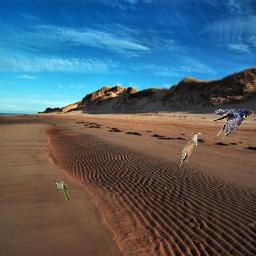Cuckoo: (178, 132, 201, 172), (53, 180, 69, 201)
Swallow: (214, 109, 254, 139)
